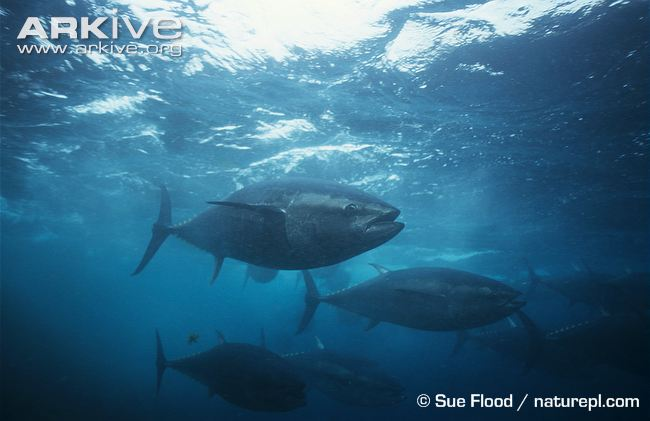Bluefina Tuna: (147, 175, 408, 275), (140, 324, 326, 421), (299, 274, 541, 332)
